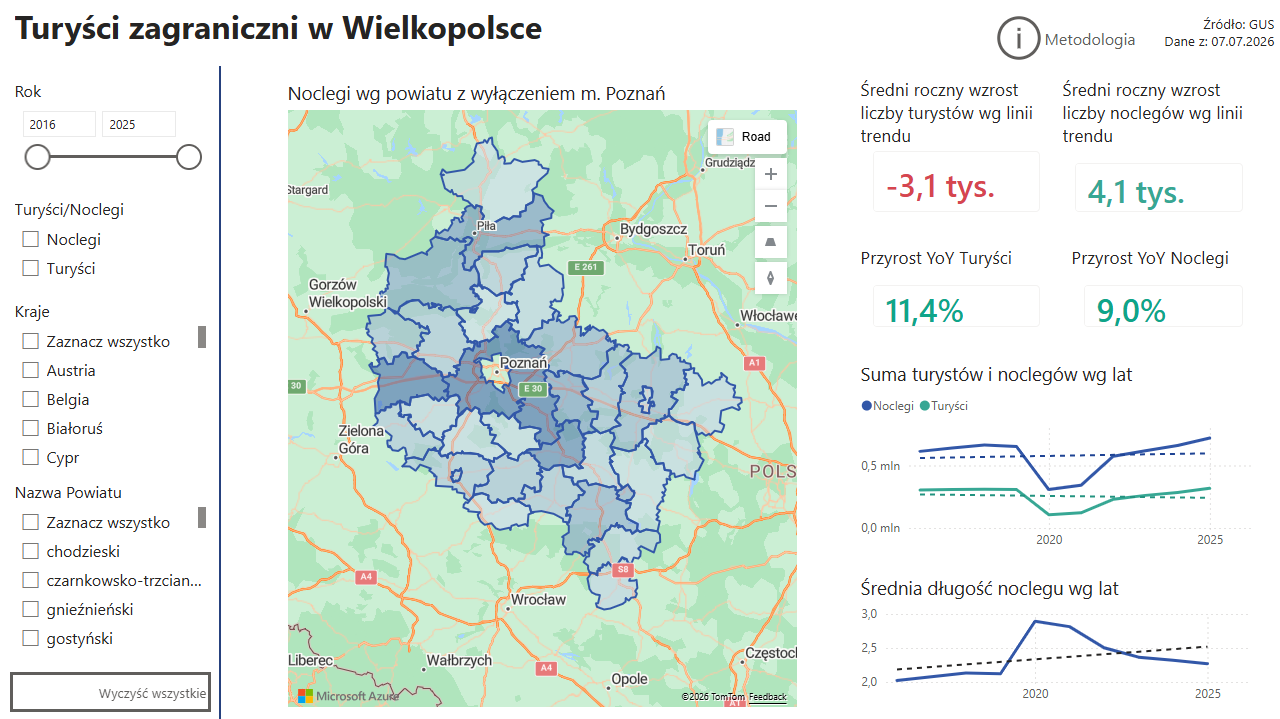

What the dashboard file says about the page in this screenshot:
{"tool":"powerbi","page":{"name":"Ogólny","canvas":[1280,720],"ordinal":0},"visuals":[{"type":"lineChart","title":"Turyści i noclegi wg lat","fields":{"Category":["DANE_Wielkopolska.Rok"],"Series":["DANE_Wielkopolska.Turyści/Noclegi - etykieta"],"Y":["Sum(DANE_Wielkopolska.Wartosc)"]},"box":[237.3,67.1,402.7,197.4],"z":0},{"type":"clusteredBarChart","title":"Turyści i noclegi wg krajów","fields":{"Category":["DANE_Wielkopolska.Kraje"],"Series":["DANE_Wielkopolska.Turyści/Noclegi - etykieta"],"Y":["Sum(DANE_Wielkopolska.Wartosc)"]},"box":[664.3,67.1,401.7,320],"z":1000},{"type":"slicer","fields":{"Values":["DANE_Wielkopolska.Rok"]},"box":[9.7,79.8,201.3,99.2],"z":2000},{"type":"shape","box":[211.1,67.1,17.5,652.6],"z":3000},{"type":"slicer","fields":{"Values":["DANE_Wielkopolska.Kraje"]},"box":[9.7,292.8,193.6,172.2],"z":4000},{"type":"clusteredBarChart","title":"Turyści i noclegi wg powiatów","fields":{"Category":["DANE_Wielkopolska.Nazwa powiatu"],"Series":["DANE_Wielkopolska.Turyści/Noclegi - etykieta"],"Y":["Sum(DANE_Wielkopolska.Wartosc)"]},"box":[664.3,413.4,401.7,299.6],"z":5000},{"type":"slicer","fields":{"Values":["DANE_Wielkopolska.Nazwa powiatu"]},"box":[9.7,478.5,193.6,180.9],"z":6000},{"type":"textbox","box":[9.7,0,792.7,59.3],"z":7000},{"type":"slicer","fields":{"Values":["DANE_Wielkopolska.Turyści/Noclegi - etykieta"]},"box":[9.7,193.6,193.6,99.2],"z":8000},{"type":"actionButton","box":[9.7,673.1,201.3,39.9],"z":9000},{"type":"lineChart","title":"Średnia długość noclegu wg lat","fields":{"Category":["DANE_Wielkopolska.Rok"],"Y":["DANE_Wielkopolska.Srednia dlugosc noclegu"]},"box":[237.3,270.4,402.7,160.5],"z":10000},{"type":"cardVisual","title":"Średnia długość noclegu","fields":{"Data":["DANE_Wielkopolska.Srednia dlugosc noclegu"]},"box":[1087.4,67.1,192.6,126.4],"z":11000},{"type":"cardVisual","title":"Przyrost YoY Turyści","fields":{"Data":["DANE_Wielkopolska.Przyrost_YoY"]},"box":[1087.4,347.2,192.6,99.2],"z":13000},{"type":"cardVisual","title":"Przyrost YoY Noclegi","fields":{"Data":["DANE_Wielkopolska.Przyrost_YoY"]},"box":[1087.4,613.7,192.6,99.2],"z":14000},{"type":"textbox","box":[1122.1,10.7,157.6,56.4],"z":15000},{"type":"azureMap","title":"Noclegi wg powiatu z wyłączeniem m. Poznań","fields":{"Category":["DANE_Wielkopolska.wojewodztwo Hierarchy.wojewodztwo","DANE_Wielkopolska.wojewodztwo Hierarchy.Powiat nazwa"],"Size":["Sum(DANE_Wielkopolska.Wartosc)"]},"box":[237.3,436.7,402.7,283],"z":16000},{"type":"actionButton","box":[991.1,10.7,148.8,56.4],"z":17000},{"type":"cardVisual","title":"Średni roczny wzrost liczby turystów wg linii trendu","fields":{"Data":["DANE_Wielkopolska.Regresja_Slope"]},"box":[1086.4,201.3,193.6,138.1],"z":18000},{"type":"cardVisual","title":"Średni roczny wzrost liczby noclegów wg linii trendu","fields":{"Data":["DANE_Wielkopolska.Regresja_Slope"]},"box":[1086.4,454.2,193.6,151.7],"z":19000}]}

Visuals, with their boxes in screenshot pixels (x1, y1, x2, y2), scaled from the page's 1280x720 canvas onto the 1280x719 screenshot:
"Turyści i noclegi wg lat" lineChart: l=237, t=67, r=640, b=264
"Turyści i noclegi wg krajów" clusteredBarChart: l=664, t=67, r=1066, b=387
slicer - DANE_Wielkopolska.Rok: l=10, t=80, r=211, b=179
shape: l=211, t=67, r=229, b=718
slicer - DANE_Wielkopolska.Kraje: l=10, t=292, r=203, b=464
"Turyści i noclegi wg powiatów" clusteredBarChart: l=664, t=413, r=1066, b=712
slicer - DANE_Wielkopolska.Nazwa powiatu: l=10, t=478, r=203, b=658
textbox: l=10, t=0, r=802, b=59
slicer - DANE_Wielkopolska.Turyści/Noclegi - etykieta: l=10, t=193, r=203, b=292
actionButton: l=10, t=672, r=211, b=712
"Średnia długość noclegu wg lat" lineChart: l=237, t=270, r=640, b=430
"Średnia długość noclegu" cardVisual: l=1087, t=67, r=1279, b=193
"Przyrost YoY Turyści" cardVisual: l=1087, t=347, r=1279, b=446
"Przyrost YoY Noclegi" cardVisual: l=1087, t=613, r=1279, b=712
textbox: l=1122, t=11, r=1279, b=67
"Noclegi wg powiatu z wyłączeniem m. Poznań" azureMap: l=237, t=436, r=640, b=718
actionButton: l=991, t=11, r=1140, b=67
"Średni roczny wzrost liczby turystów wg linii trendu" cardVisual: l=1086, t=201, r=1279, b=339
"Średni roczny wzrost liczby noclegów wg linii trendu" cardVisual: l=1086, t=454, r=1279, b=605
